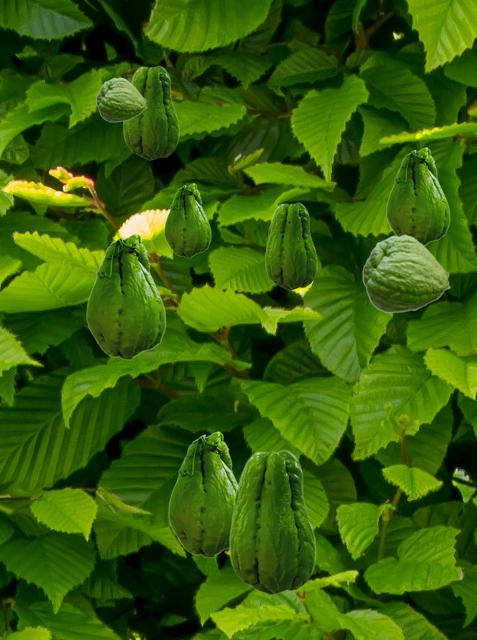sayote: (229, 449, 315, 594), (86, 233, 165, 359), (168, 431, 237, 557), (362, 234, 450, 312), (386, 147, 449, 245), (123, 65, 178, 159), (265, 202, 316, 289), (164, 183, 210, 257), (96, 77, 146, 121)
